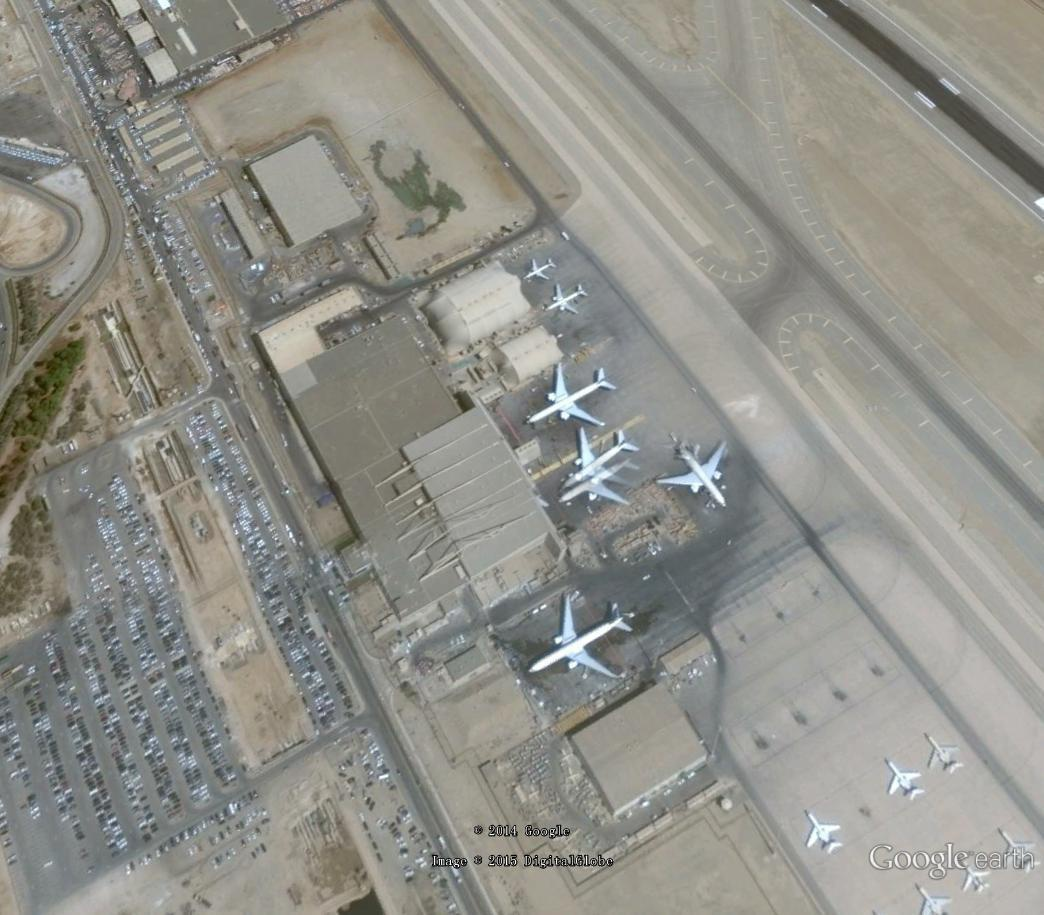aircraft: (531, 589, 639, 685), (525, 360, 619, 432), (652, 439, 735, 511), (562, 426, 645, 496), (558, 453, 646, 514), (798, 805, 849, 861), (876, 756, 928, 808), (921, 730, 967, 778), (547, 279, 594, 321), (909, 882, 957, 915), (958, 856, 991, 898), (520, 250, 558, 283)
